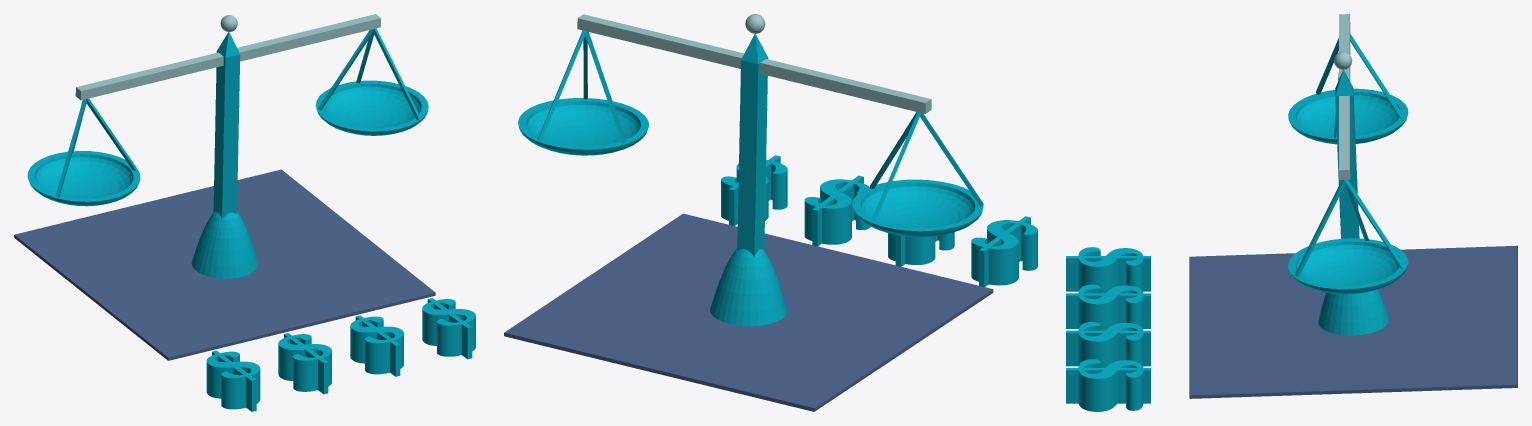
Rendered from asset.glb.
3 renders of one model, left to right at view 1: azimuth 30°, elevation 25°; view 2: azimuth 150°, elevation 25°; view 3: azimuth 270°, elevation 25°, orthographic. The views are drawn at different scales.
Visible parts, largest first — view 1: Mesh_Mesh_head_geo.001_lambert2SG.001; view 2: Mesh_Mesh_head_geo.001_lambert2SG.001; view 3: Mesh_Mesh_head_geo.001_lambert2SG.001.
Part boxes in pixels (x1=…): Mesh_Mesh_head_geo.001_lambert2SG.001: x1=14, y1=14, x2=475, y2=411; Mesh_Mesh_head_geo.001_lambert2SG.001: x1=504, y1=14, x2=1037, y2=411; Mesh_Mesh_head_geo.001_lambert2SG.001: x1=1066, y1=14, x2=1517, y2=411.
Bounding box in the file's own units: 130 × 88.37 × 124.
